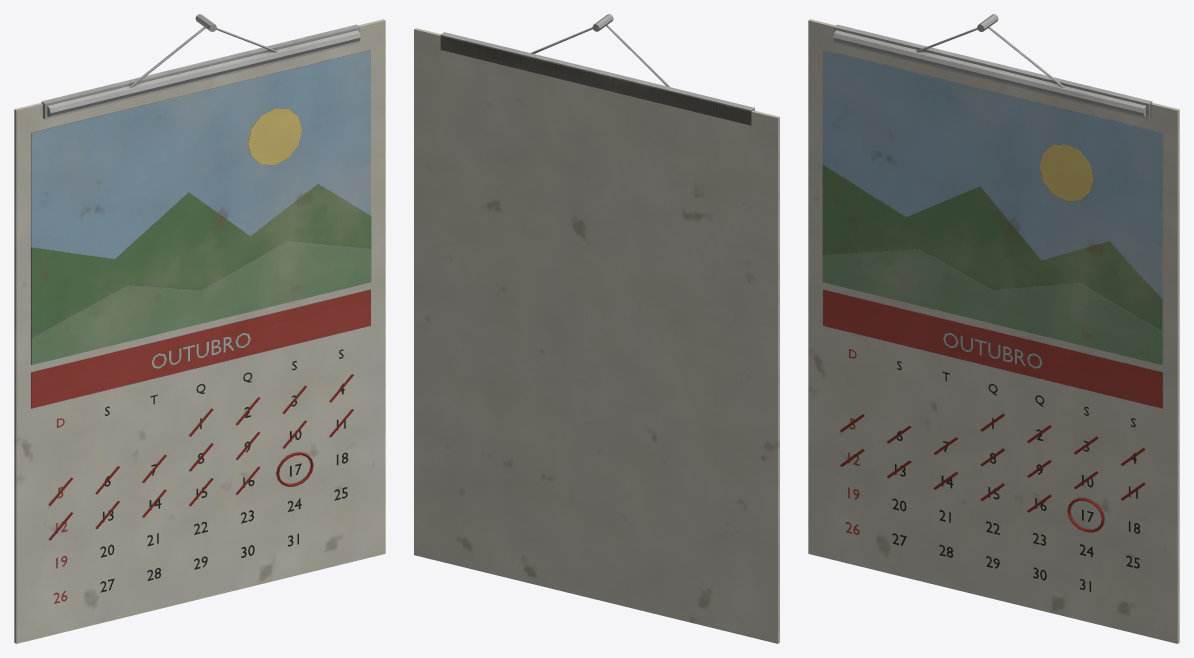
The model's file is calendario_parede.glb.
3 views of the same model, side by side, from view 1: azimuth 30°, elevation 25°; view 2: azimuth 150°, elevation 25°; view 3: azimuth 330°, elevation 25° (orthographic).
Visible parts, largest first — view 1: calendario; view 2: calendario; view 3: calendario.
Part boxes in pixels (left/top/right/bottom): calendario: left=14, top=14, right=385, bottom=643; calendario: left=414, top=14, right=779, bottom=643; calendario: left=808, top=14, right=1179, bottom=643.
Size of the model in its own units: 0.3 by 0.453 by 0.02.
1 material, 1 textured.
